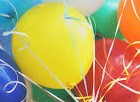Balloon: (12, 3, 95, 89), (77, 38, 140, 102)
